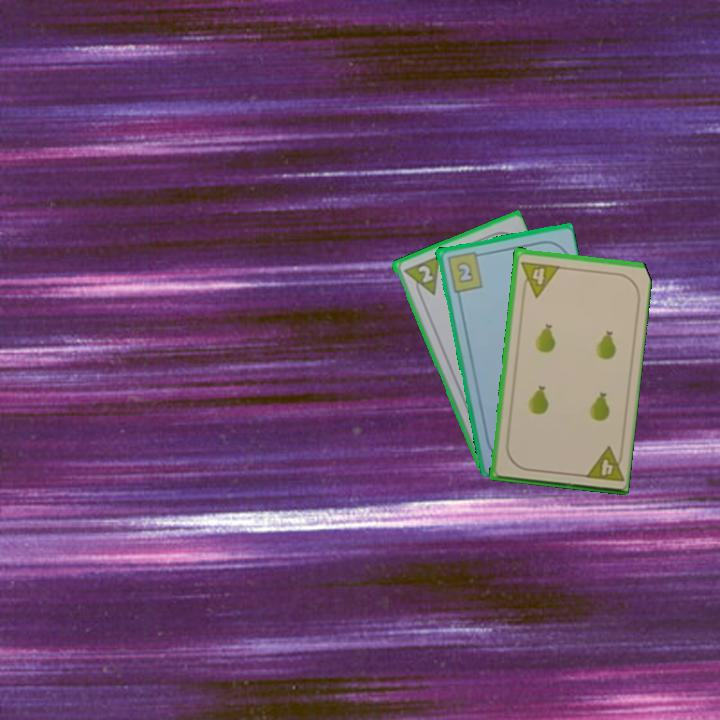2b: (443, 248, 486, 295)
2p: (414, 261, 436, 286)
4p: (580, 442, 626, 485), (517, 257, 561, 299)
